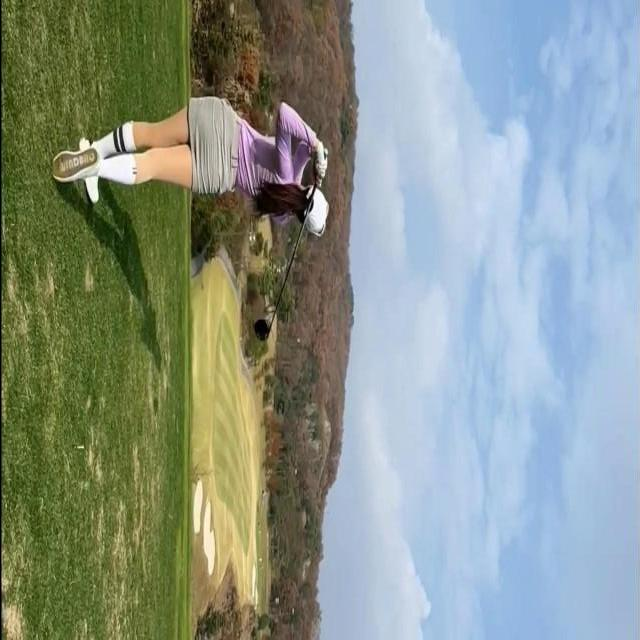golf club-handle: (251, 150, 328, 342)
golf club-head: (252, 319, 266, 340)
